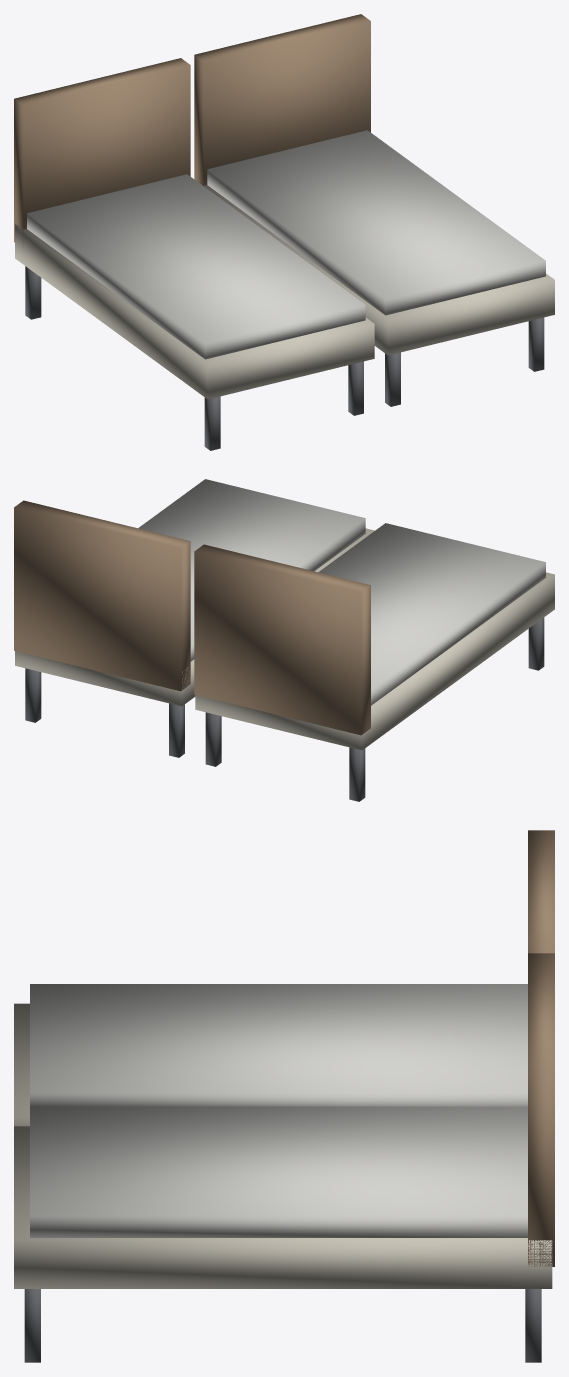
File: single_bed__cluster.glb
The picture shows the model from 3 angles, top to bottom: view 1: azimuth 30°, elevation 25°; view 2: azimuth 150°, elevation 25°; view 3: azimuth 270°, elevation 25°; orthographic projection. The views are drawn at different scales.
Parts seen in each view (by area): view 1: world; view 2: world; view 3: world.
Part boxes in pixels (<box>): world: <box>14,14,554,450</box>; world: <box>14,479,554,801</box>; world: <box>14,830,554,1362</box>.
Bounding box in the file's own units: 2.08 × 1.23 × 2.01.
